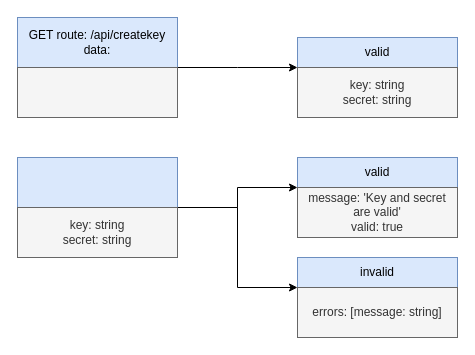
Some shapes in this 475 by 355 pixel diagram are drawn without their labels. Here are the shapes that lost their labels. From the top down, the centre of each, then its label:
point 97,92: none
point 97,182: POST route: /api/checkkey data:
